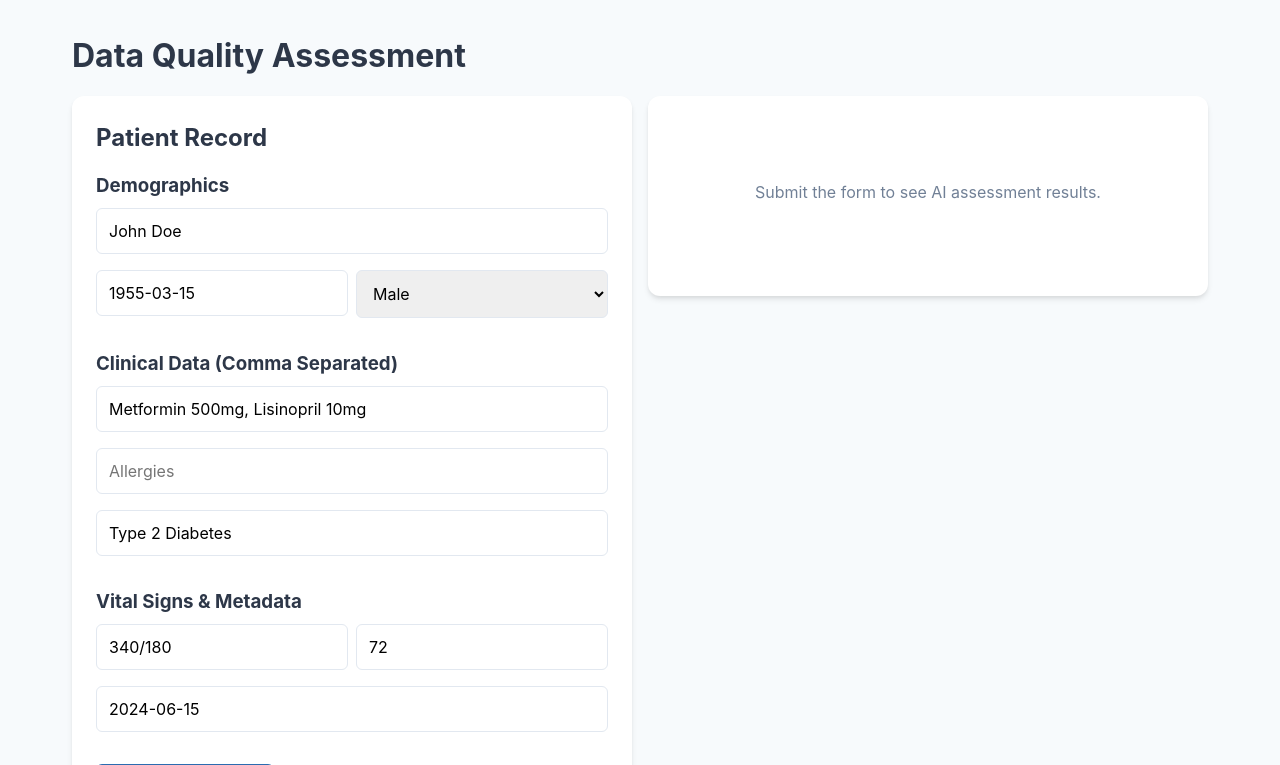
Test case: Input Validation Logic › DataQuality Form › rejects missing demographics (DOB)
The image size is (1280, 765).
Clear the 2nd field with placeholder "DOB (YYYY-MM-DD)" at (222, 293), box 96,270 -> 348,316
(page scrolled)
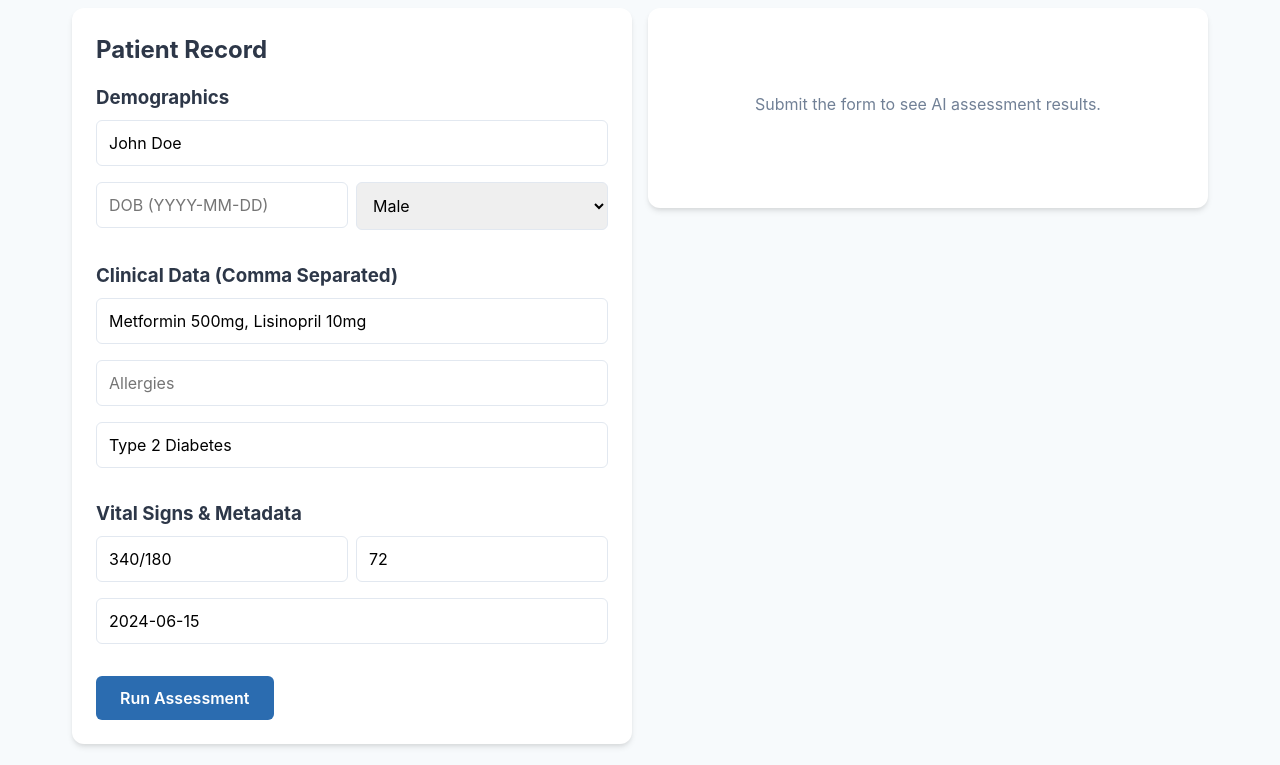
Click the button "Run Assessment".
click(185, 698)  # box 96,676 -> 274,720
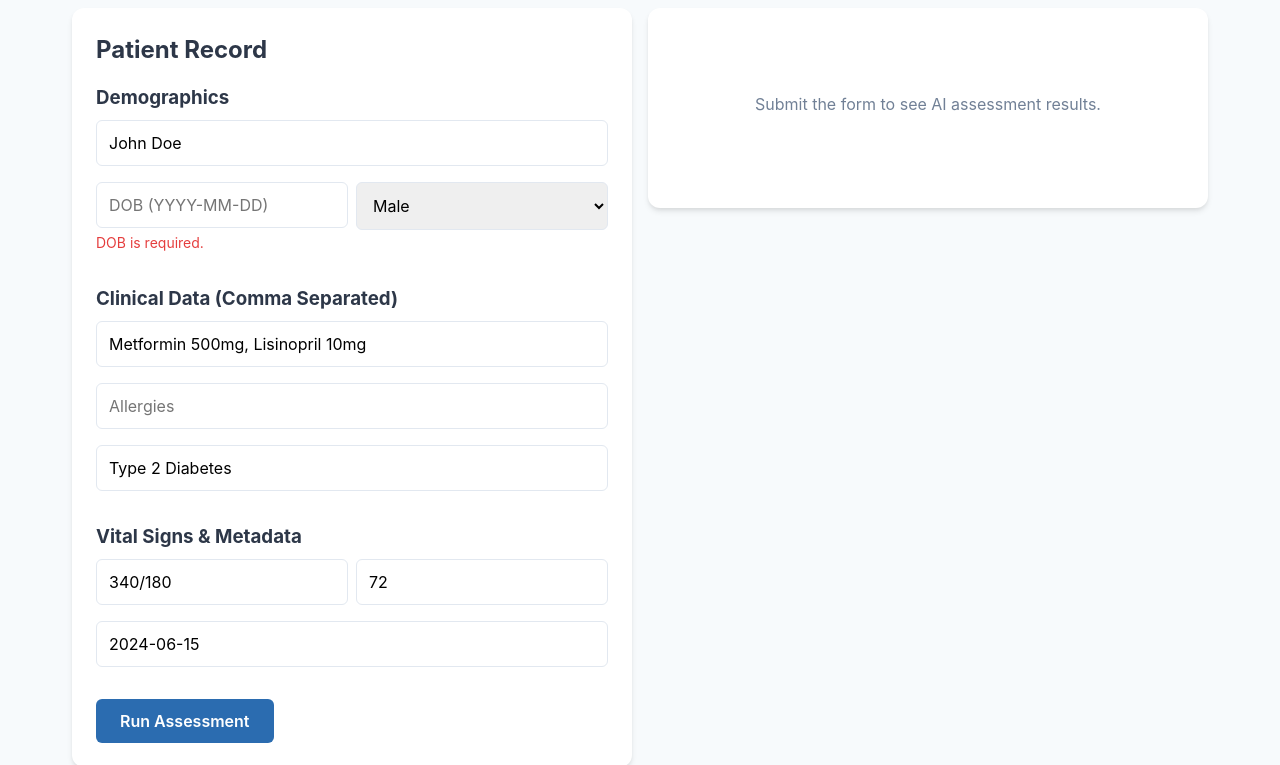
Check: the text "DOB is required." is shown, box 96,234 -> 204,251
